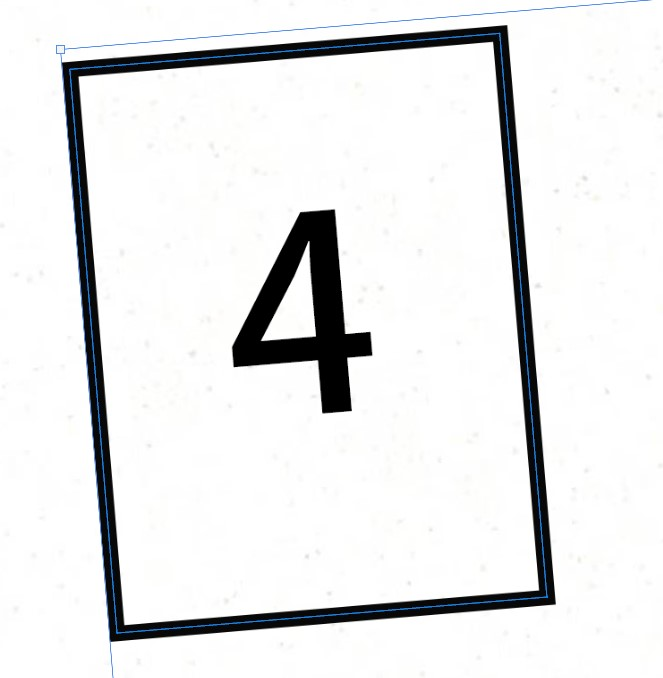four: (154, 154, 448, 483)
